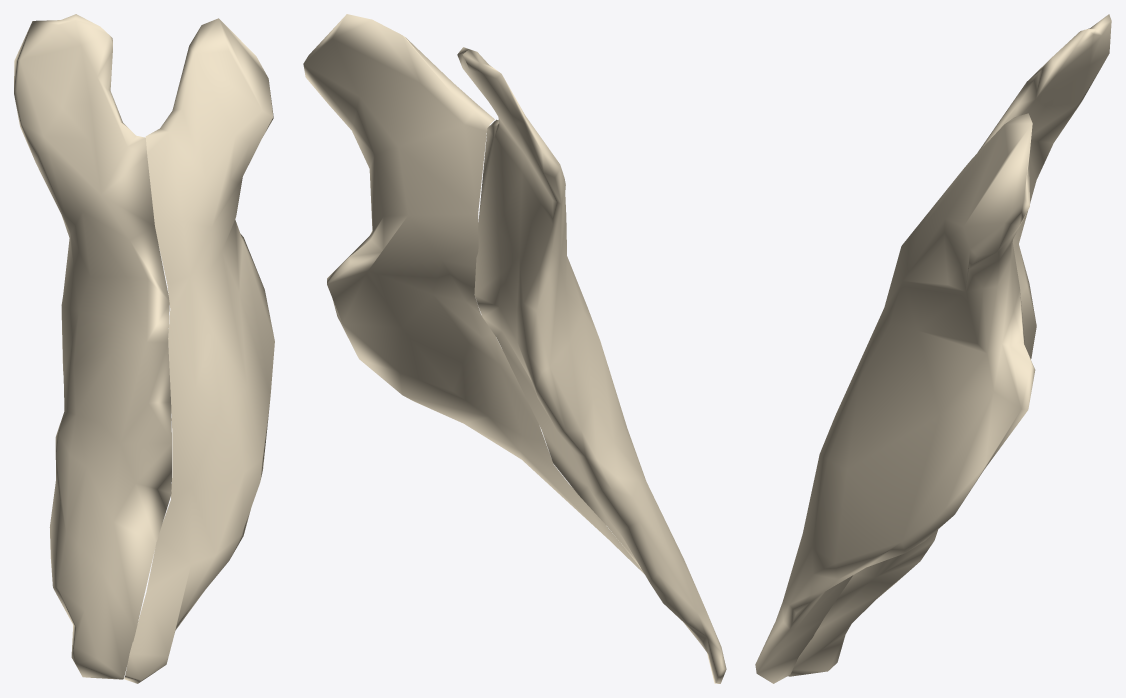
Rendered from vh_m_thymus.glb.
3 views of the same model, side by side, from view 1: azimuth 30°, elevation 25°; view 2: azimuth 150°, elevation 25°; view 3: azimuth 270°, elevation 25° (orthographic). The views are drawn at different scales.
Parts seen in each view (by area): view 1: VH_M_thymus_lobe_L, VH_M_thymus_lobe_R; view 2: VH_M_thymus_lobe_R, VH_M_thymus_lobe_L; view 3: VH_M_thymus_lobe_R, VH_M_thymus_lobe_L.
Part boxes in pixels (box(x1,y1,x2,y2)): VH_M_thymus_lobe_L: box(14, 14, 171, 679); VH_M_thymus_lobe_R: box(124, 18, 274, 683); VH_M_thymus_lobe_R: box(303, 14, 644, 573); VH_M_thymus_lobe_L: box(457, 47, 726, 683); VH_M_thymus_lobe_R: box(755, 113, 1035, 683); VH_M_thymus_lobe_L: box(788, 14, 1111, 676).
Bounding box in the file's own units: 0.0369 × 0.0758 × 0.035.
